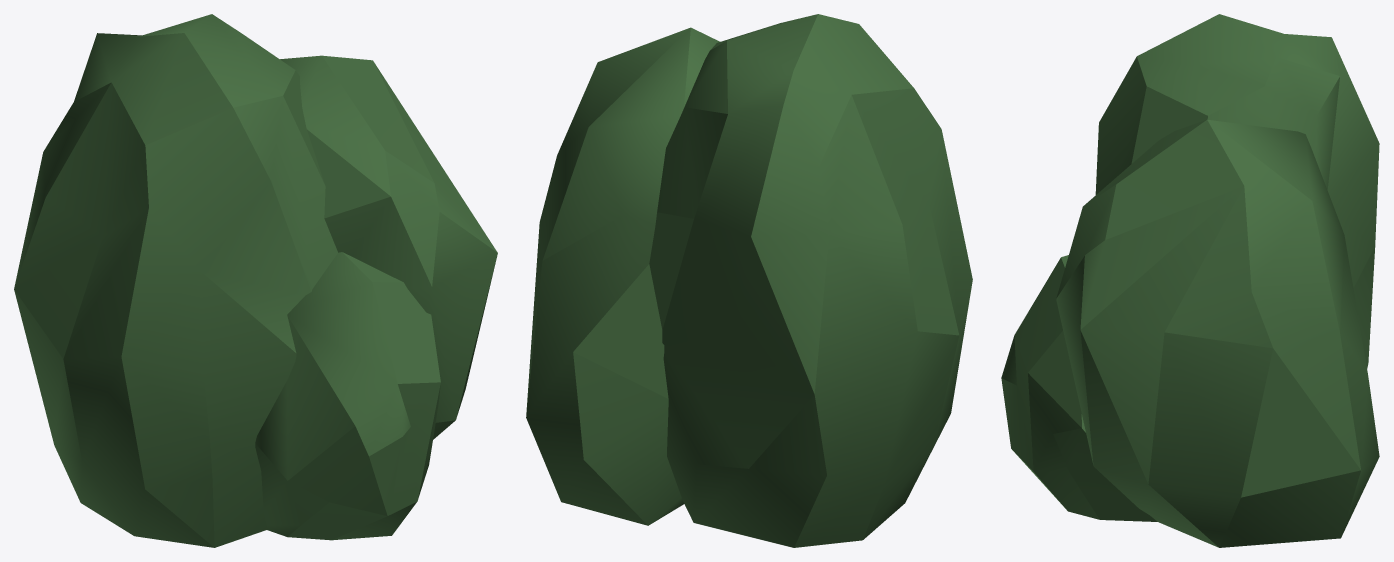
Rendered from Bush_2.fbx.
The picture shows the model from 3 angles, left to right: view 1: azimuth 30°, elevation 25°; view 2: azimuth 150°, elevation 25°; view 3: azimuth 270°, elevation 25°; orthographic projection. The views are drawn at different scales.
Visible parts, largest first — view 1: Bush_2; view 2: Bush_2; view 3: Bush_2.
Part boxes in pixels (<box>): Bush_2: <box>14,14,497,547</box>; Bush_2: <box>526,14,972,547</box>; Bush_2: <box>1001,14,1379,547</box>.
Size of the model in its own units: 47.14 by 54.94 by 42.78.
